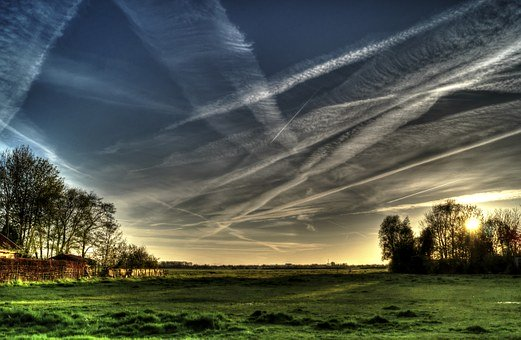field: (7, 273, 520, 336)
sky: (3, 2, 521, 249)
tree: (371, 194, 517, 273), (6, 149, 56, 280), (50, 150, 100, 281)
